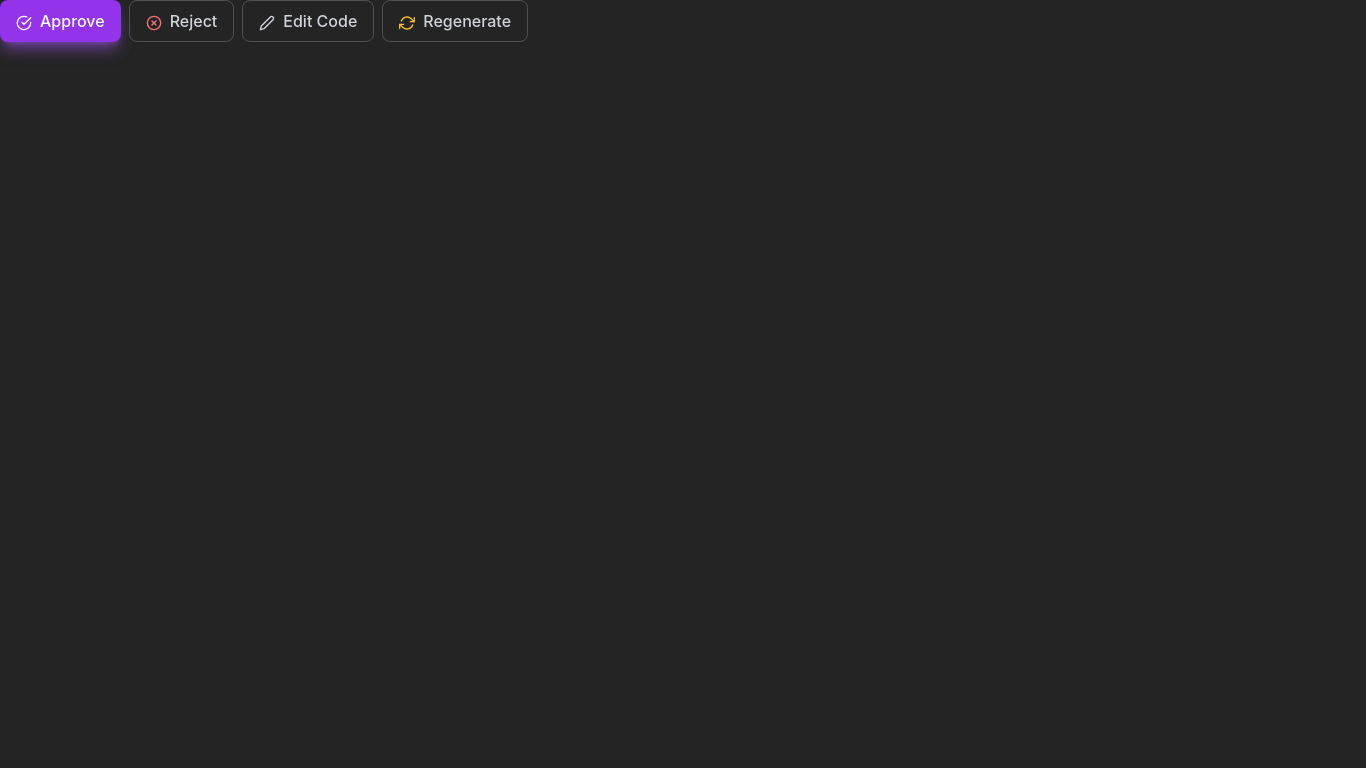
Test: ReviewActions › opens reject dialog when Reject button clicked
The width and height of the screenshot is (1366, 768).
Click the button "Reject" at (182, 21), box [129,0,234,42]
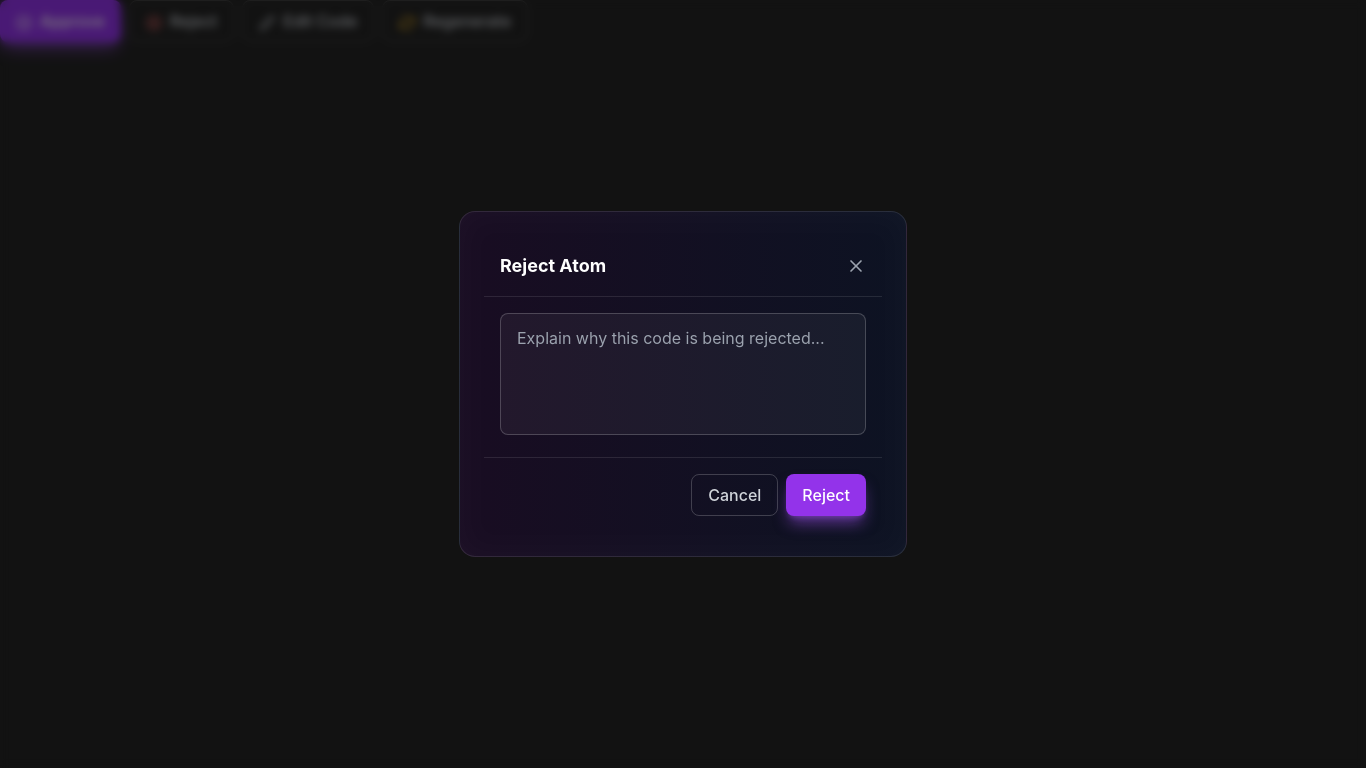
Now the heading "Reject Atom" is shown, box [500,252,606,280]
Now the text box with placeholder "Explain why this code is being rejected..." is shown, box [500,313,866,435]
